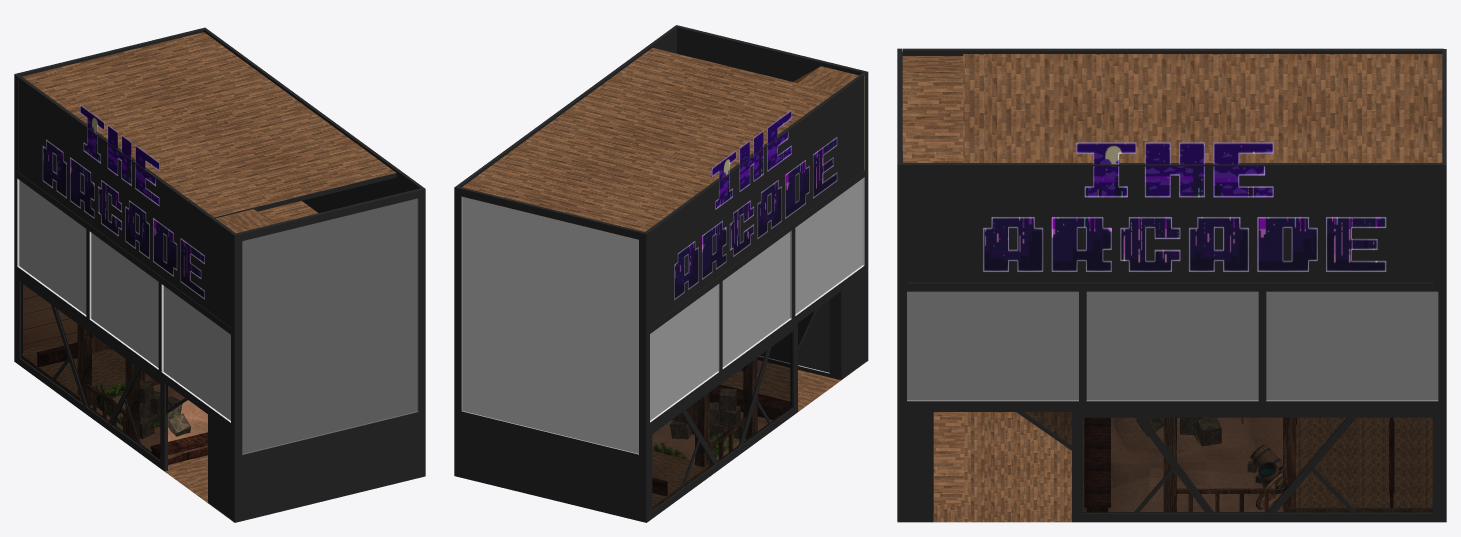
3 renders of one model, left to right at view 1: azimuth 30°, elevation 25°; view 2: azimuth 150°, elevation 25°; view 3: azimuth 270°, elevation 25°, orthographic. The views are drawn at different scales.
Parts seen in each view (by area): view 1: Plane, Plane.003, Plane.001, Cube.001, Cube; view 2: Plane, Plane.003, Plane.001, Cube.001; view 3: Plane, Plane.001, Plane.002, Cube.001, Cube.008.
Part boxes in pixels (box(x1,y1,x2,y2)): Plane: box(14, 27, 425, 522); Plane.003: box(42, 105, 204, 299); Plane.001: box(21, 324, 207, 451); Cube.001: box(151, 432, 207, 464); Cube: box(37, 342, 111, 366); Plane: box(454, 25, 868, 522); Plane.003: box(674, 110, 837, 299); Plane.001: box(652, 358, 772, 509); Cube.001: box(710, 385, 790, 419); Plane: box(897, 48, 1446, 522); Plane.001: box(1108, 418, 1432, 511); Plane.002: box(983, 142, 1386, 271); Cube.001: box(1084, 418, 1110, 512); Cube.008: box(1197, 418, 1221, 445).
Size of what is drawn, in the model's own units: 16 by 25.89 by 32.
Materials: 12 (12 with a texture image).
